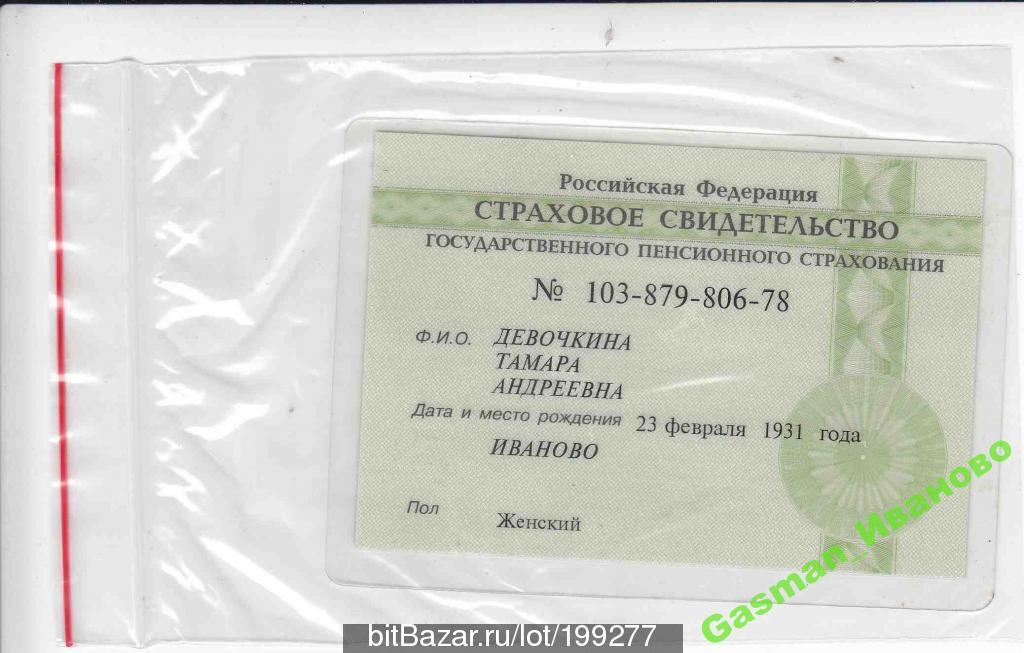text: (630, 410, 865, 447), (584, 277, 794, 316), (488, 372, 626, 404), (490, 324, 637, 351), (486, 434, 599, 462), (493, 348, 585, 375), (490, 508, 585, 534)
